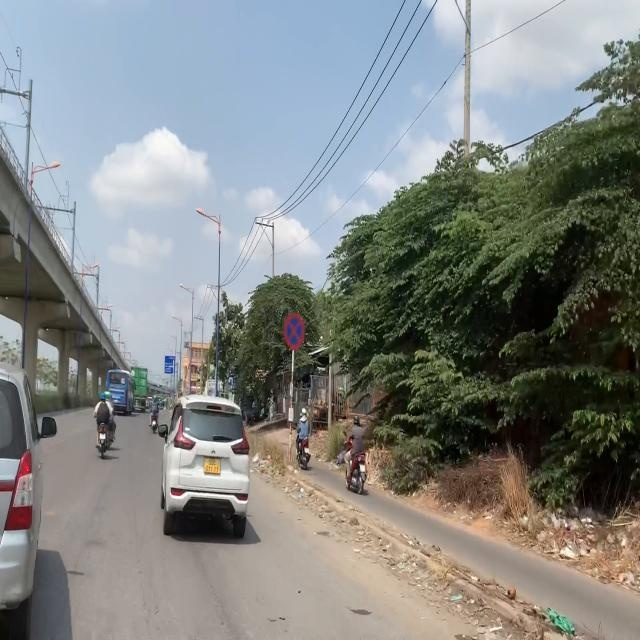bien_cam: (283, 312, 306, 351)
